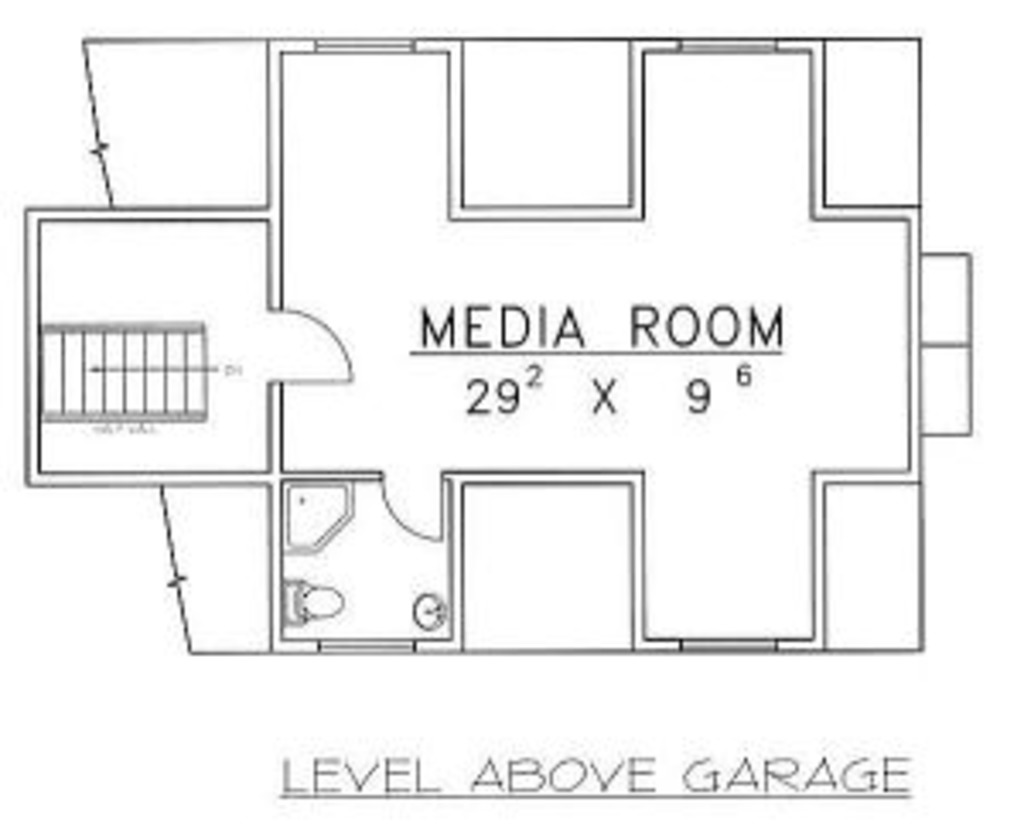door: (259, 291, 360, 385), (370, 474, 450, 542)
large_sink: (277, 575, 352, 625)
small_sink: (414, 588, 452, 637)
stairs: (38, 320, 236, 430)
window: (683, 30, 804, 57), (304, 32, 424, 59), (674, 628, 779, 652), (315, 637, 422, 651)
